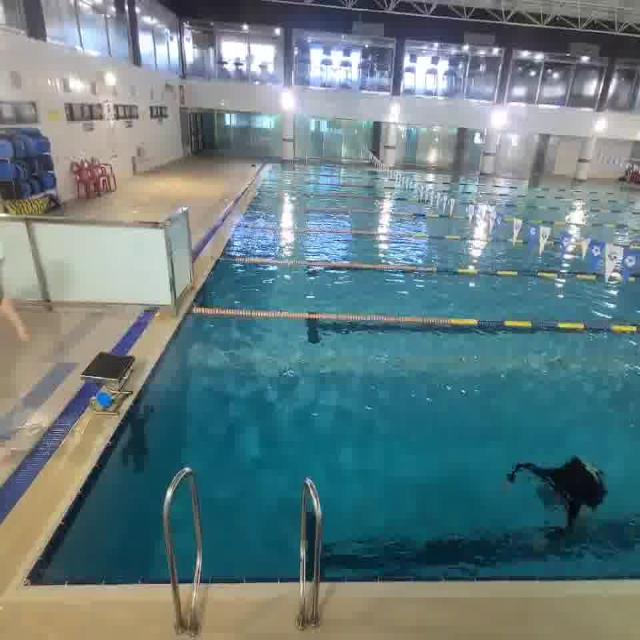Drowning: (496, 448, 610, 564)
